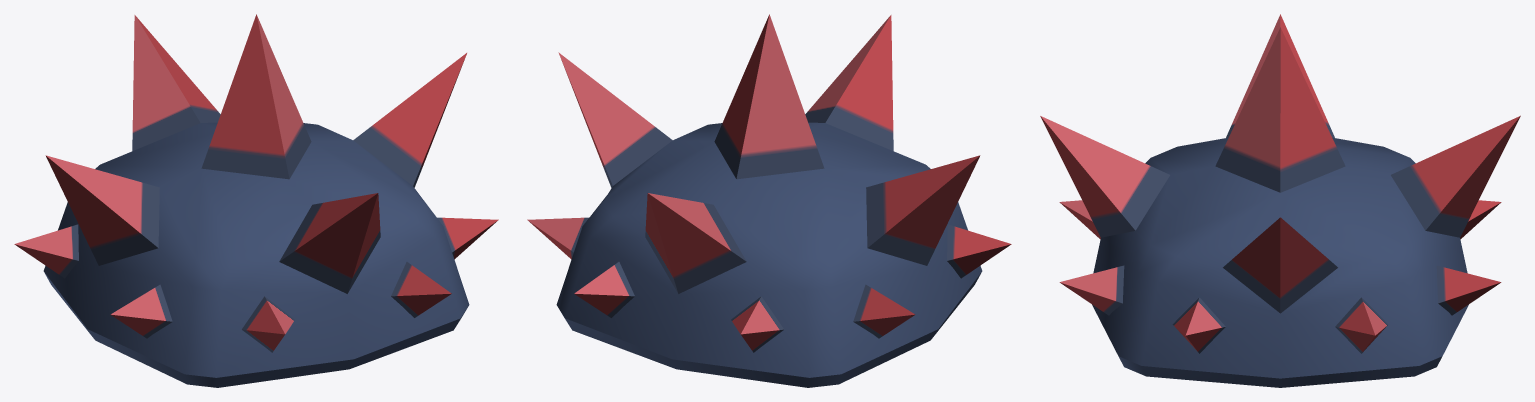
File: G_010_SpineDome.FBX
The picture shows the model from 3 angles, left to right: view 1: azimuth 30°, elevation 25°; view 2: azimuth 150°, elevation 25°; view 3: azimuth 270°, elevation 25°; orthographic projection.
Visible parts, largest first — view 1: G_010_SpineDome; view 2: G_010_SpineDome; view 3: G_010_SpineDome.
Part boxes in pixels (x1=…): G_010_SpineDome: x1=14, y1=14, x2=498, y2=387; G_010_SpineDome: x1=527, y1=14, x2=1011, y2=387; G_010_SpineDome: x1=1040, y1=14, x2=1520, y2=387.
Bounding box in the file's own units: 100 × 65 × 100.
